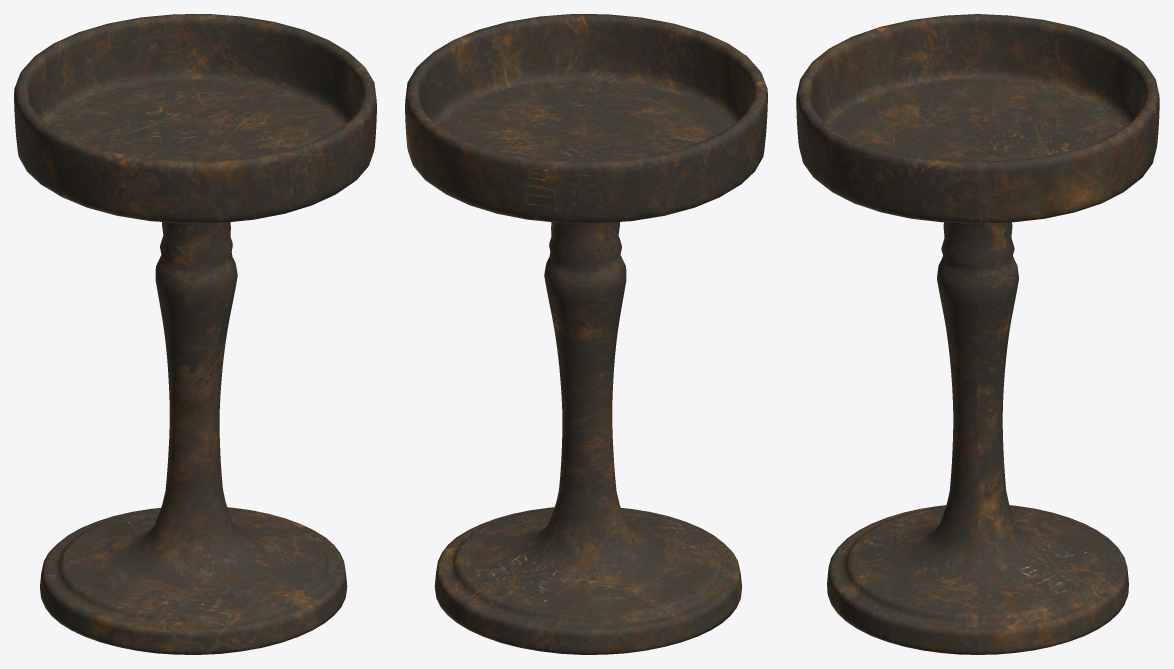
Rendered from 12-han-nanchang-lamp.glb.
The picture shows the model from 3 angles, left to right: view 1: azimuth 30°, elevation 25°; view 2: azimuth 150°, elevation 25°; view 3: azimuth 270°, elevation 25°; orthographic projection.
Parts seen in each view (by area): view 1: node_0_Retopo; view 2: node_0_Retopo; view 3: node_0_Retopo.
Part boxes in pixels (x1,y1,x2,y2): node_0_Retopo: [14, 14, 376, 654]; node_0_Retopo: [405, 14, 767, 654]; node_0_Retopo: [796, 14, 1159, 654].
Bounding box in the file's own units: 166 × 256 × 167.
1 material, 1 textured.
